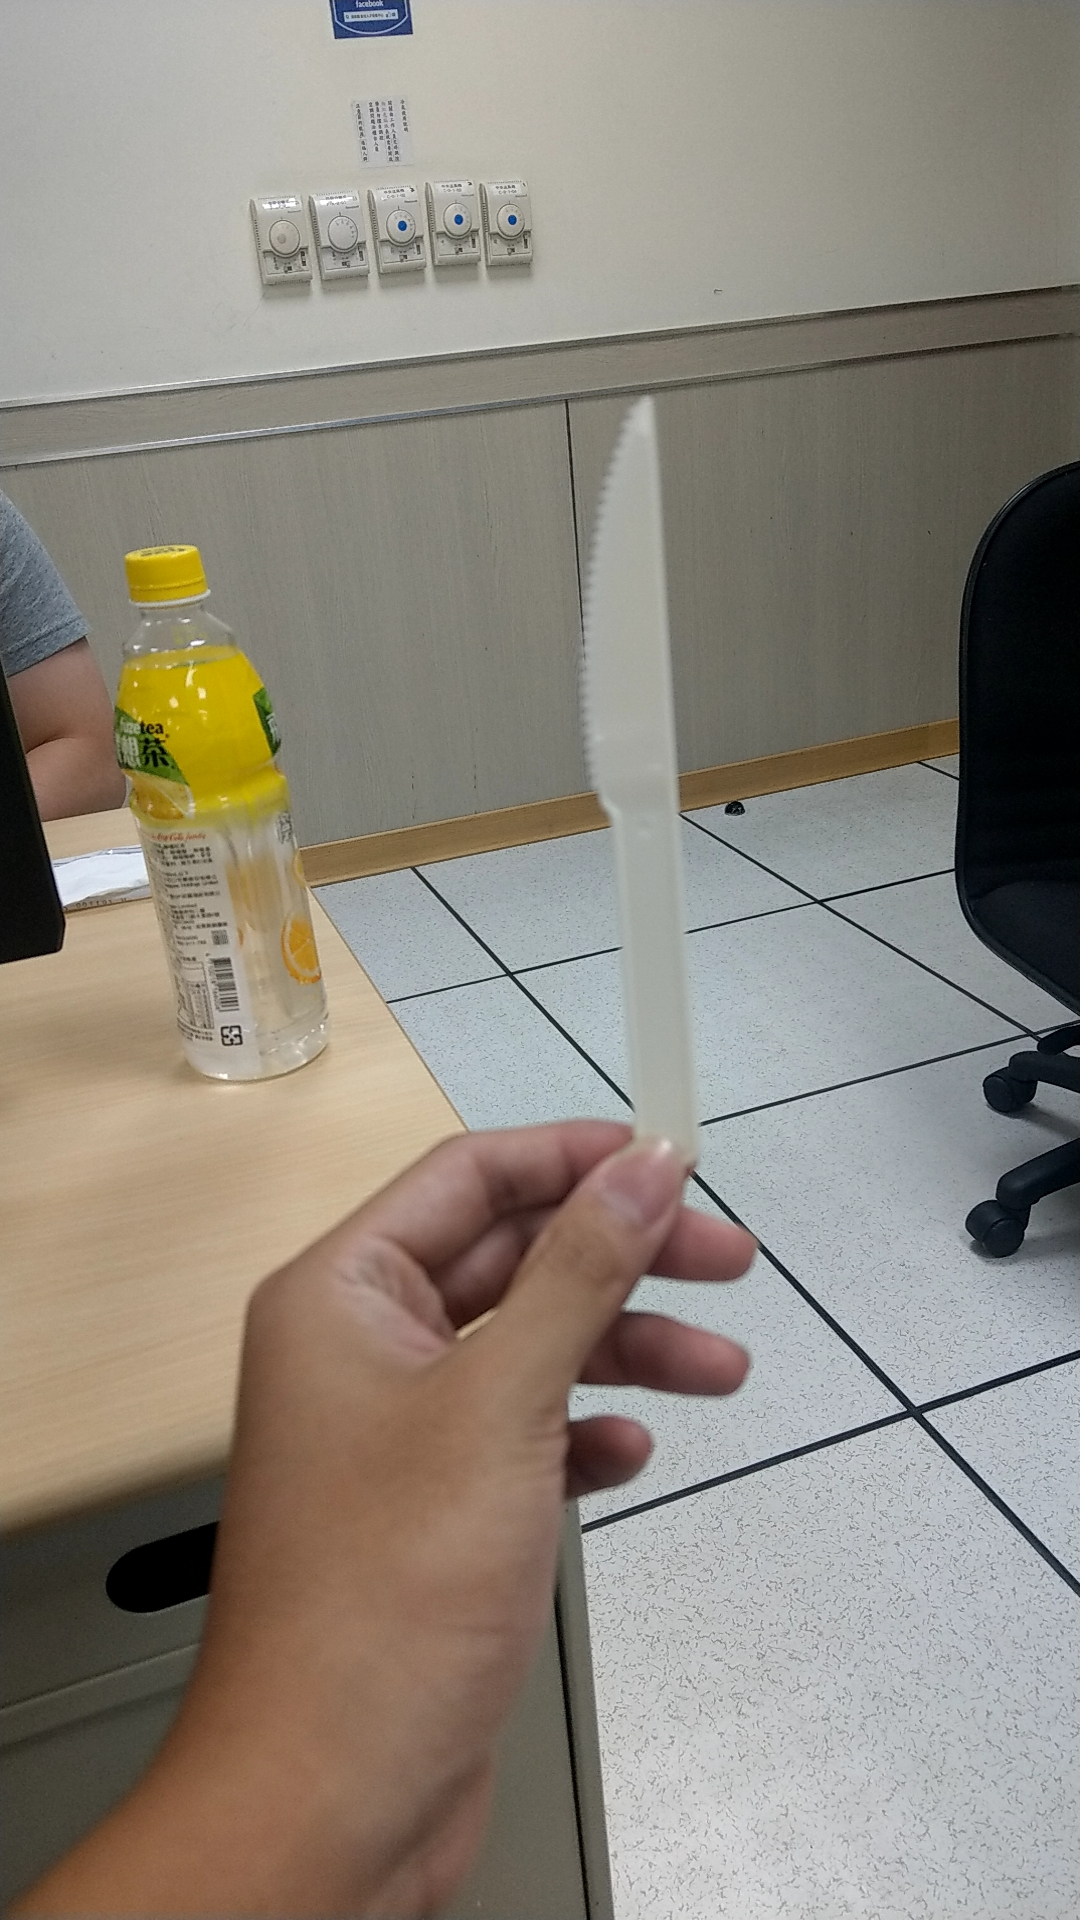knife: (529, 364, 742, 1150)
